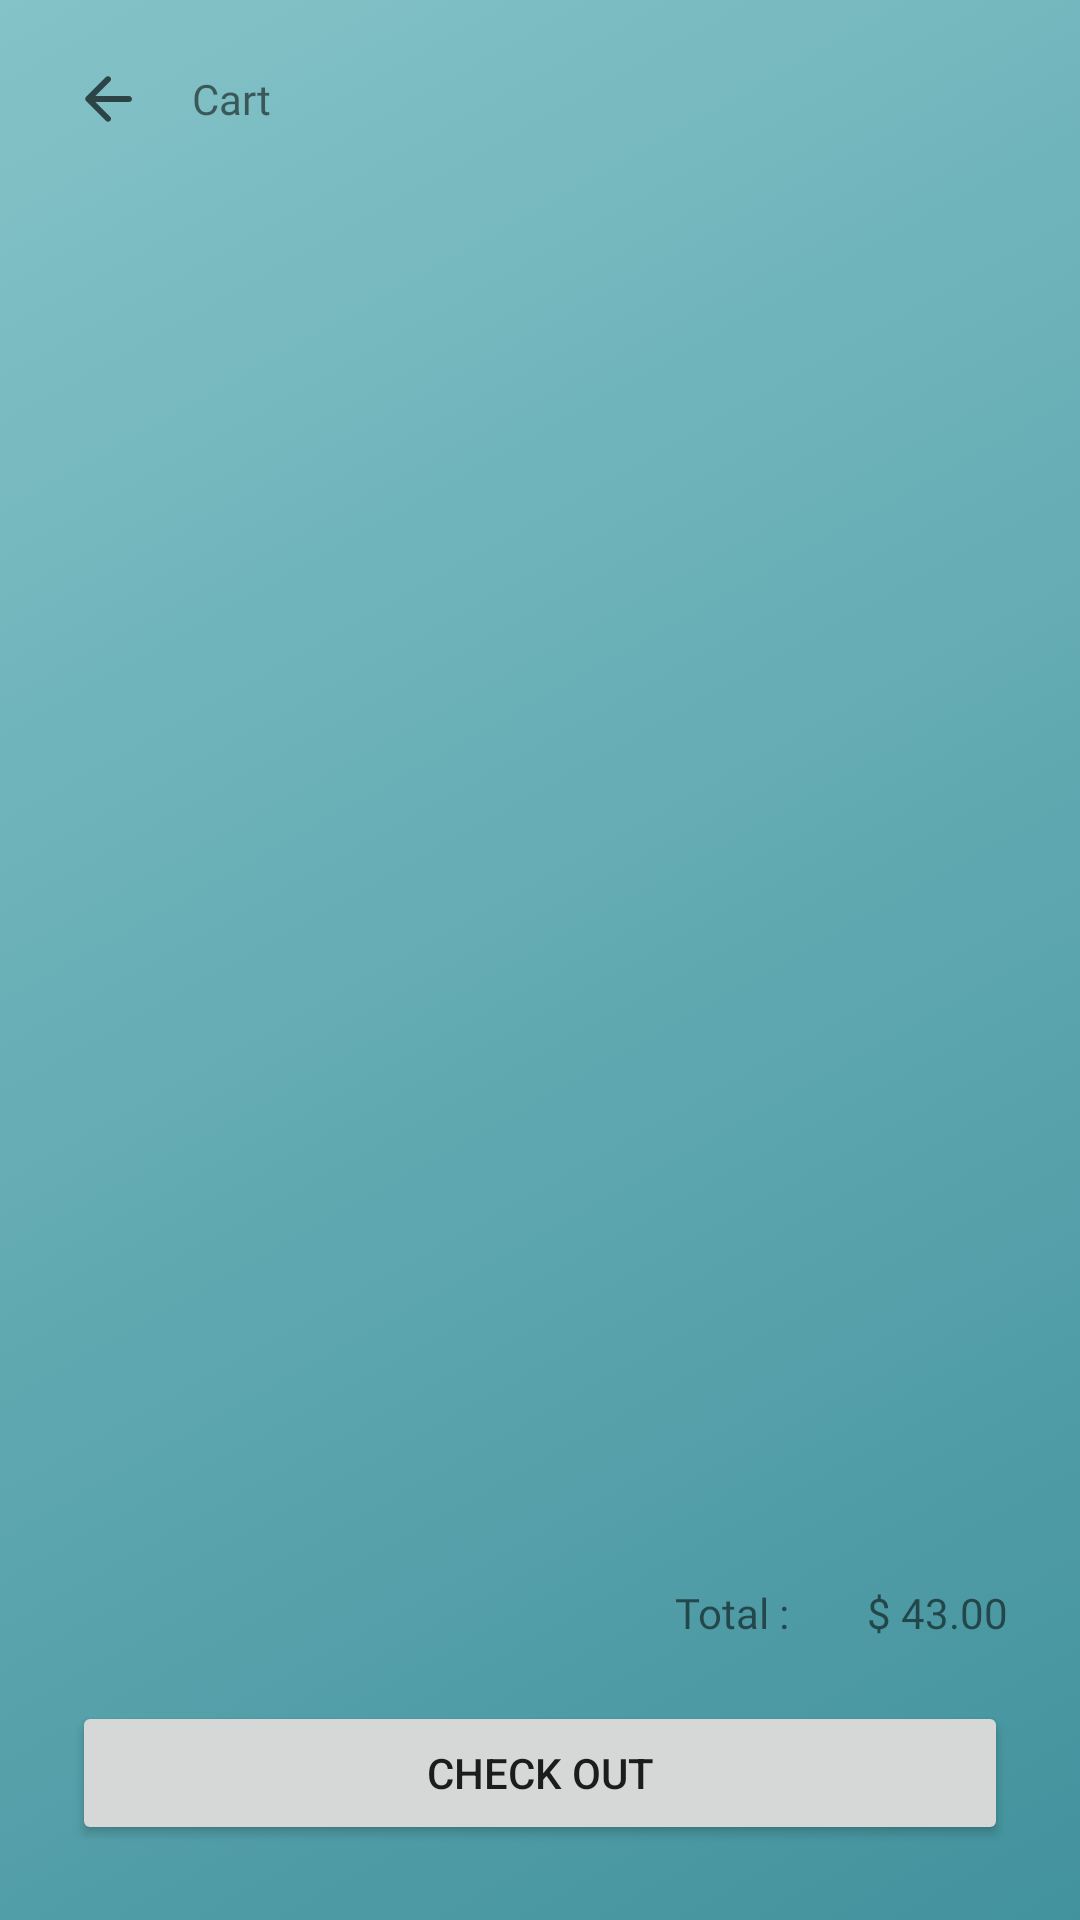

Locate icon controls on the screen. Image size 1080x1920, boxes as bbox=(x1, y1, x2, y2).
back arrow: bbox=(85, 76, 132, 122)
